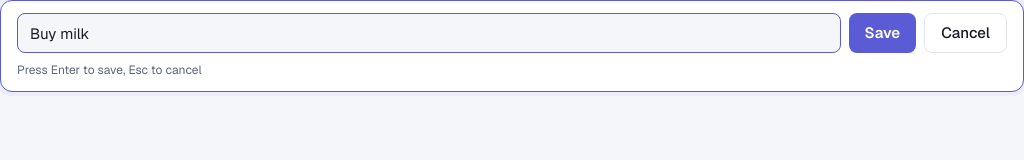
Test: TodoItem › saves an edited title with Enter
This screenshot has width=1024, height=160.
Earlier steps of the test are not shown.
Step 1. Replace the text in the field named "Edit task title" with "Buy oat milk" → [429, 33], box x1=17 y1=13 x2=841 y2=53
Then press Enter
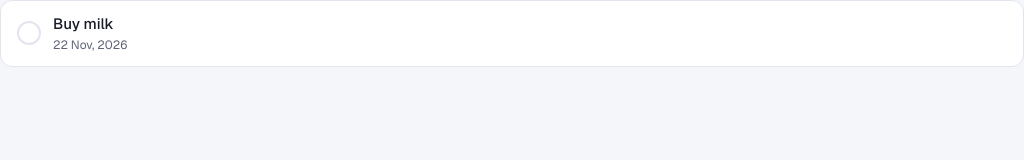
Now the text "Buy milk" is shown, box x1=53 y1=14 x2=114 y2=33
